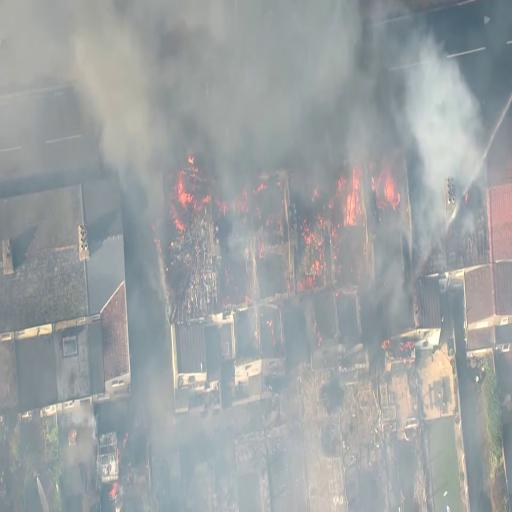fire: (334, 185, 364, 245), (170, 182, 196, 216)
smoke: (96, 0, 268, 154), (186, 0, 351, 145), (401, 35, 482, 184)
